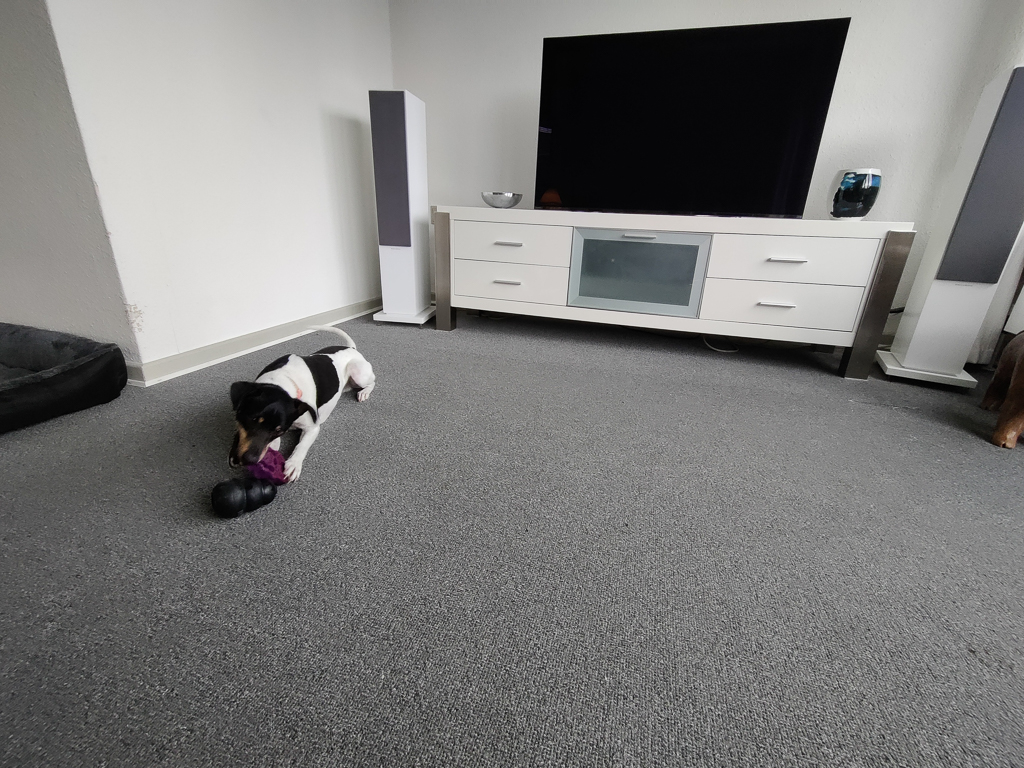Cattle: (966, 315, 1024, 471)
Dog: (215, 309, 388, 494)
